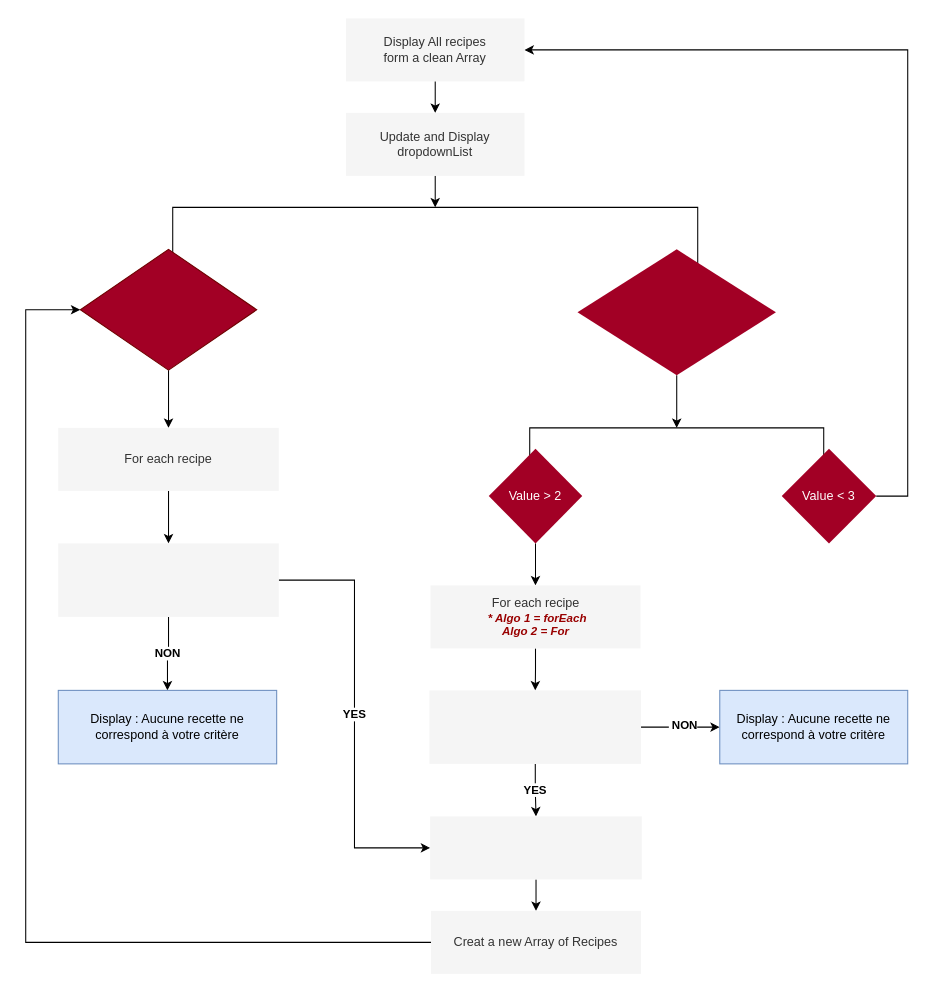
Image size: 934x991. Some labels were removed from this diagram. Each missing label, with the centre of its shape:
Display recipe and update Dropdown list: point 535,847
Input Value is include in NAME or DESCRIPTION or INGREDIENT: point 534,726
List Value is include in INGREDIENT or USTENSILES or APPAREIL: point 168,579
USER Click on an element in Dropdown List: point 168,309
USER Click on SEARCH BAR & Add character: point 676,312
